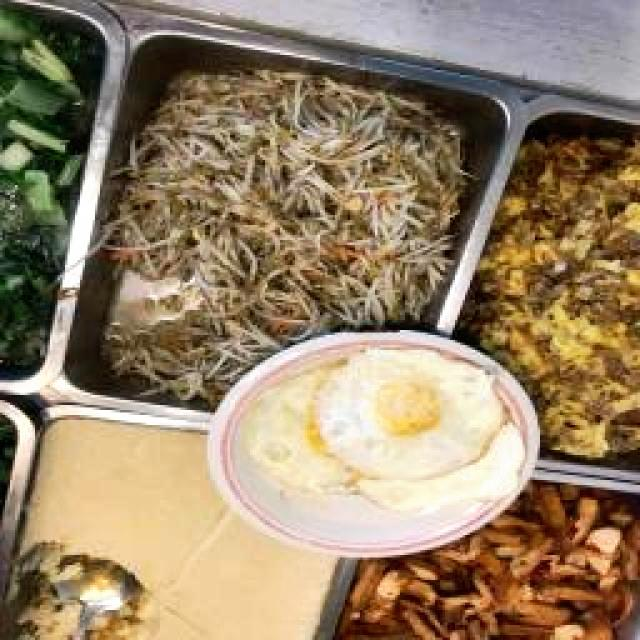fried_eggs: (248, 362, 524, 516), (314, 350, 504, 478)
mung_bean_sprouts: (107, 67, 458, 376)
